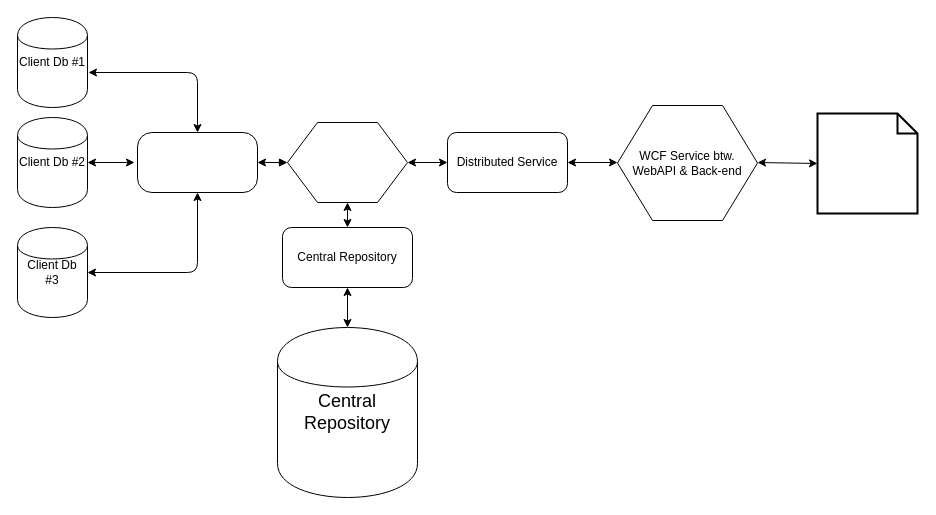
Some shapes in this 936 by 515 pixel diagram are drawn without their labels. The box of each missing label's shape, as (x1, y1, x2, y2) in pixels:
Local Repository: (136, 132, 258, 192)
WCF Switch btw. Local & Central: (286, 122, 408, 202)
WebApi: (816, 112, 918, 214)
